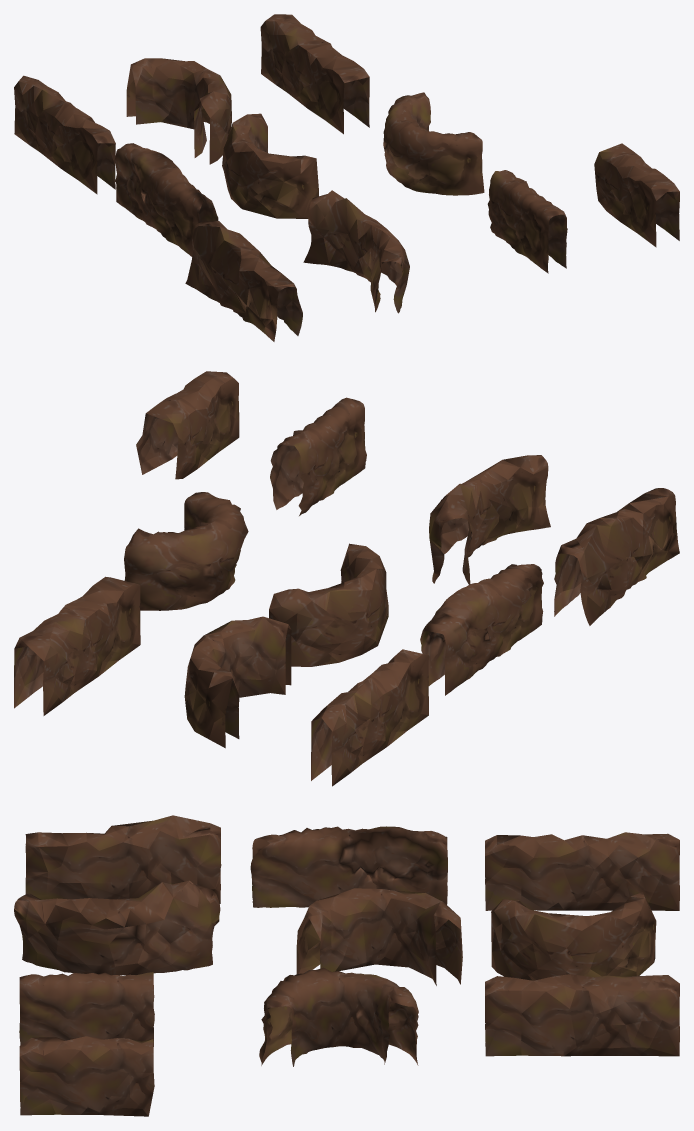
The model's file is Cave_Halls_001.FBX.
3 views of the same model, one above another, from view 1: azimuth 30°, elevation 25°; view 2: azimuth 150°, elevation 25°; view 3: azimuth 270°, elevation 25° (orthographic). The views are drawn at different scales.
Parts seen in each view (by area): view 1: CD_Cave_hallpiece_normal_base002, CD_Cave_hallpiece_wider_base003, CD_Cave_hallpiece_normal_base003, CD_Cave_hallpiece_U_Bend001, CD_Cave_hallpiece_U_Bend, CD_Cave_hallpiece_normal_base, CD_Cave_hallpiece_normal_base001, CD_Cave_hallpiece_normal002, CD_Cave_hallpiece_short001, CD_Cave_hallpiece_short; view 2: CD_Cave_hallpiece_wider_base003, CD_Cave_hallpiece_normal_base002, CD_Cave_hallpiece_normal_base003, CD_Cave_hallpiece_normal002, CD_Cave_hallpiece_U_Bend001, CD_Cave_hallpiece_normal_base, CD_Cave_hallpiece_U_Bend, CD_Cave_hallpiece_normal_base001, CD_Cave_hallpiece_short001, CD_Cave_hallpiece_short; view 3: CD_Cave_hallpiece_wider_base003, CD_Cave_hallpiece_normal_base001, CD_Cave_hallpiece_normal_base, CD_Cave_hallpiece_normal_base002, CD_Cave_hallpiece_normal002, CD_Cave_hallpiece_U_Bend, CD_Cave_hallpiece_normal_base003, CD_Cave_hallpiece_U_Bend001, CD_Cave_hallpiece_short001, CD_Cave_hallpiece_short.
Part boxes in pixels (x1=…): CD_Cave_hallpiece_normal_base002: x1=185, y1=221, x2=302, y2=341; CD_Cave_hallpiece_wider_base003: x1=260, y1=14, x2=369, y2=134; CD_Cave_hallpiece_normal_base003: x1=383, y1=92, x2=484, y2=195; CD_Cave_hallpiece_U_Bend001: x1=126, y1=58, x2=231, y2=164; CD_Cave_hallpiece_U_Bend: x1=222, y1=113, x2=318, y2=218; CD_Cave_hallpiece_normal_base: x1=14, y1=75, x2=115, y2=194; CD_Cave_hallpiece_normal_base001: x1=303, y1=190, x2=409, y2=313; CD_Cave_hallpiece_normal002: x1=114, y1=143, x2=218, y2=256; CD_Cave_hallpiece_short001: x1=594, y1=143, x2=679, y2=247; CD_Cave_hallpiece_short: x1=487, y1=170, x2=567, y2=273; CD_Cave_hallpiece_wider_base003: x1=14, y1=576, x2=140, y2=715; CD_Cave_hallpiece_normal_base002: x1=554, y1=488, x2=679, y2=625; CD_Cave_hallpiece_normal_base003: x1=124, y1=492, x2=248, y2=610; CD_Cave_hallpiece_normal002: x1=420, y1=564, x2=543, y2=695; CD_Cave_hallpiece_U_Bend001: x1=184, y1=616, x2=291, y2=748; CD_Cave_hallpiece_normal_base: x1=311, y1=649, x2=428, y2=786; CD_Cave_hallpiece_U_Bend: x1=269, y1=543, x2=388, y2=666; CD_Cave_hallpiece_normal_base001: x1=429, y1=455, x2=550, y2=584; CD_Cave_hallpiece_short001: x1=136, y1=371, x2=239, y2=479; CD_Cave_hallpiece_short: x1=270, y1=397, x2=366, y2=515; CD_Cave_hallpiece_wider_base003: x1=485, y1=974, x2=679, y2=1056; CD_Cave_hallpiece_normal_base001: x1=14, y1=880, x2=220, y2=975; CD_Cave_hallpiece_normal_base: x1=485, y1=832, x2=679, y2=910; CD_Cave_hallpiece_normal_base002: x1=25, y1=815, x2=221, y2=903; CD_Cave_hallpiece_normal002: x1=250, y1=826, x2=447, y2=907; CD_Cave_hallpiece_U_Bend: x1=296, y1=888, x2=462, y2=985; CD_Cave_hallpiece_normal_base003: x1=259, y1=967, x2=418, y2=1066; CD_Cave_hallpiece_U_Bend001: x1=491, y1=892, x2=656, y2=980; CD_Cave_hallpiece_short001: x1=19, y1=1036, x2=154, y2=1116; CD_Cave_hallpiece_short: x1=19, y1=972, x2=154, y2=1046.
Bounding box in the file's own units: 40.08 × 6.48 × 47.05.
